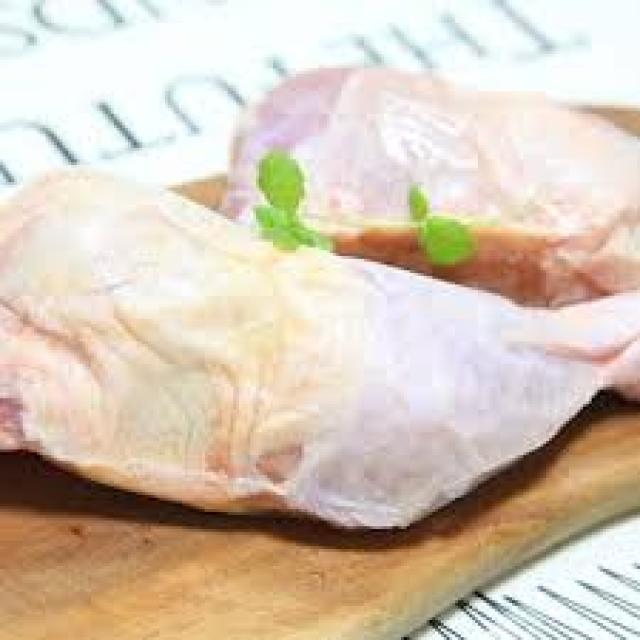chicken: (0, 159, 640, 539), (232, 61, 640, 308)
